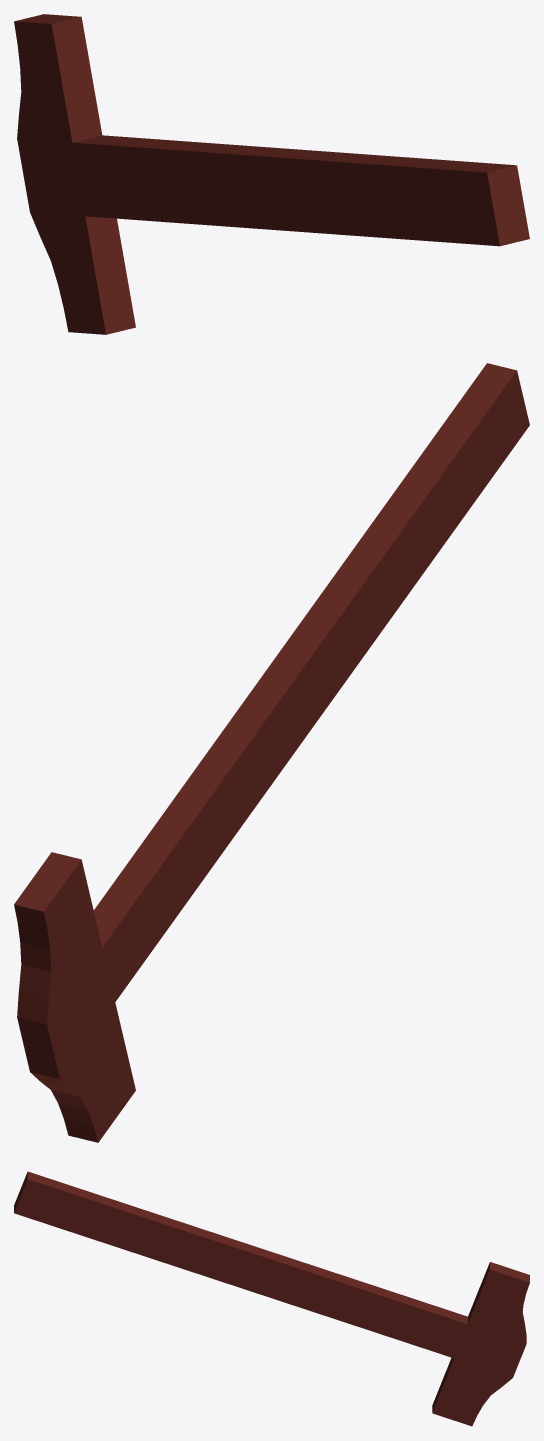
File: Pendulum.fbx
3 renders of one model, top to bottom at view 1: azimuth 30°, elevation 25°; view 2: azimuth 150°, elevation 25°; view 3: azimuth 270°, elevation 25°, orthographic. The views are drawn at different scales.
Parts seen in each view (by area): view 1: Pendulums.010; view 2: Pendulums.010; view 3: Pendulums.010.
Boxes of the visible parts, left/top/right/bottom form: Pendulums.010: left=14, top=14, right=529, bottom=334; Pendulums.010: left=14, top=363, right=529, bottom=1142; Pendulums.010: left=14, top=1171, right=529, bottom=1426.
Bounding box in the file's own units: 48.69 × 723 × 1367.
